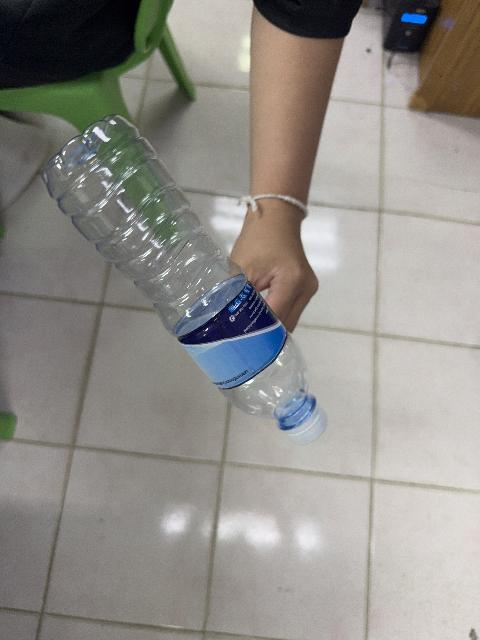bottle: (42, 116, 325, 443)
